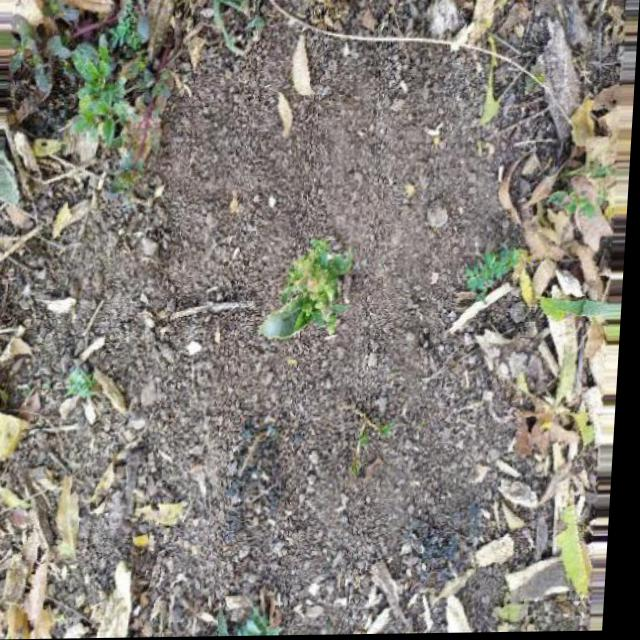weed: (243, 223, 400, 374), (35, 34, 172, 152)
